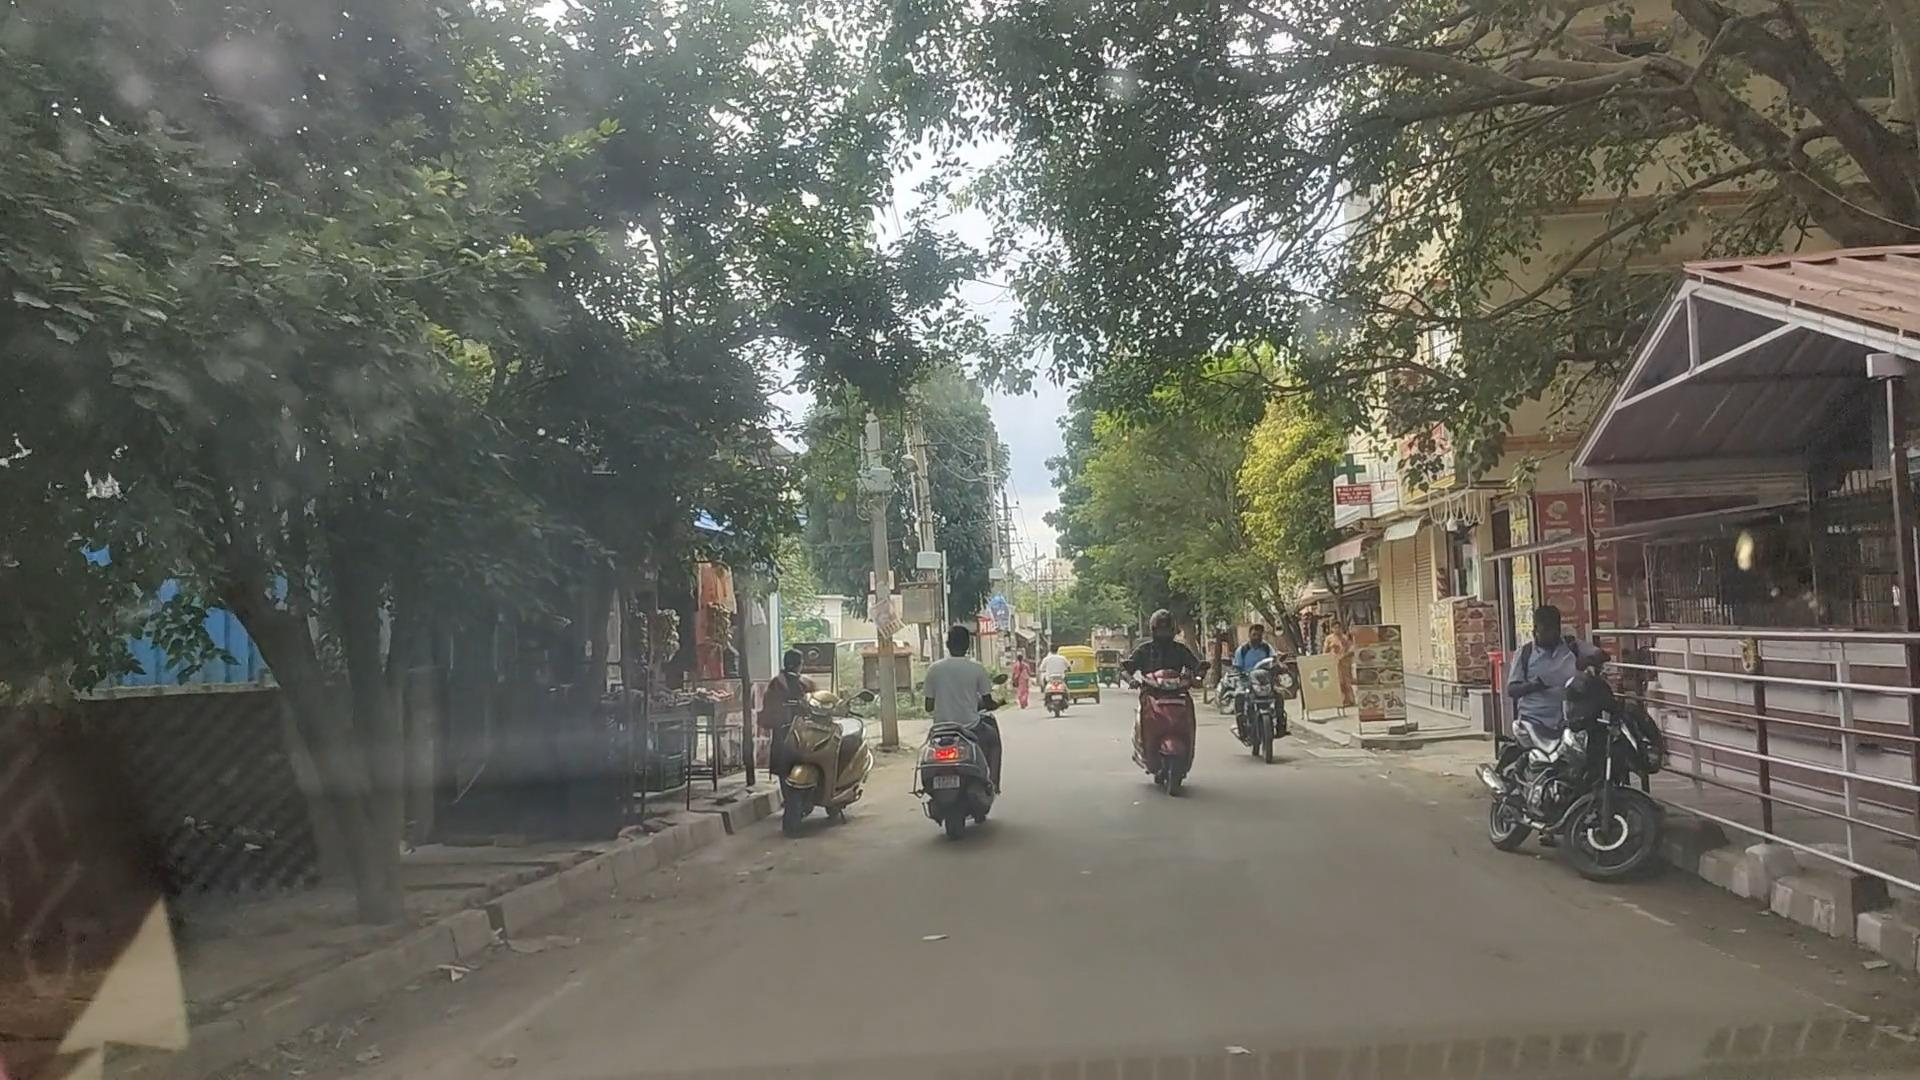LMV: (1478, 587, 1665, 894), (903, 611, 1023, 878), (745, 646, 873, 839), (1118, 596, 1225, 814)
